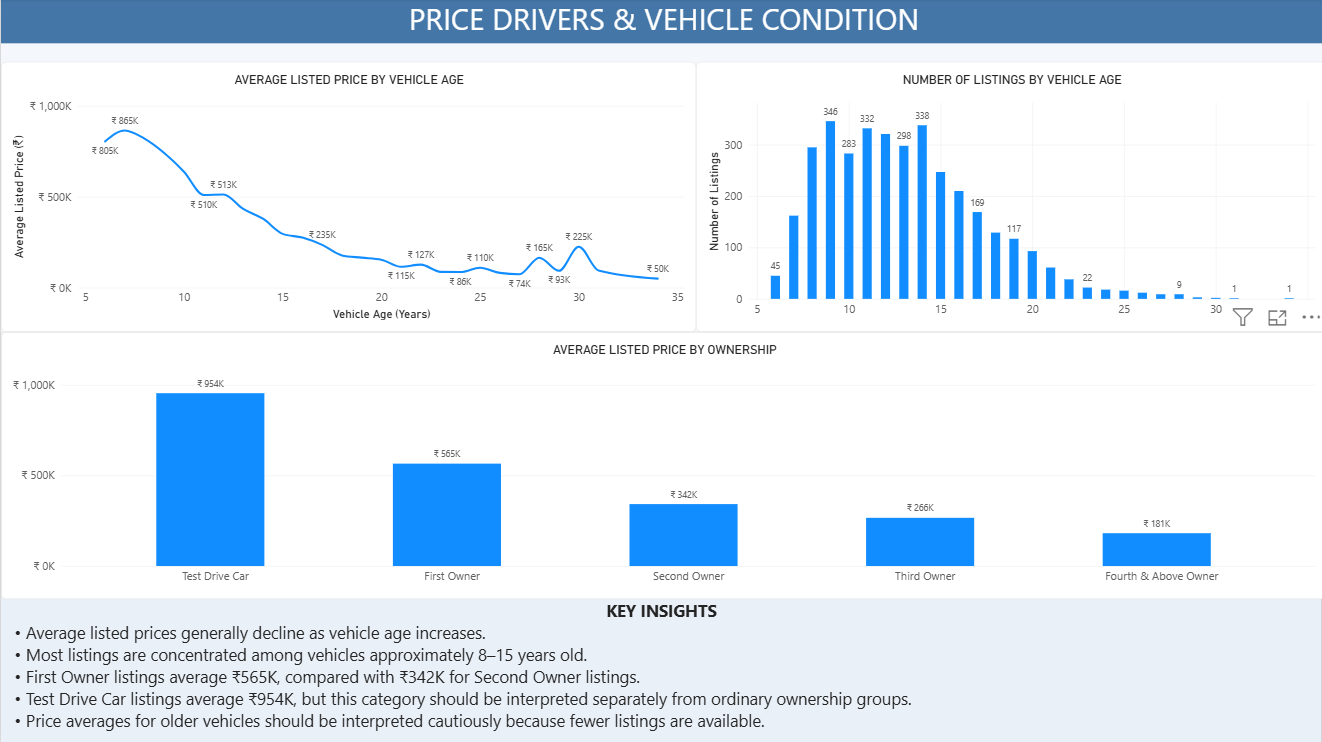

The dashboard page shown, as its layout file describes it:
{"tool":"powerbi","page":{"name":"PRICE DRIVERS & VEHICLE CONDITION","canvas":[1920,1080],"ordinal":1},"visuals":[{"type":"textbox","box":[0,0,1920.4,65.9],"z":0},{"type":"lineChart","title":"AVERAGE LISTED PRICE BY VEHICLE AGE","fields":{"Category":["CarDekho.Vehicle Age"],"Y":["Avg(CarDekho.selling_price)"]},"box":[0,92.6,1006.5,391.1],"z":1000},{"type":"clusteredColumnChart","title":"NUMBER OF LISTINGS BY VEHICLE AGE","fields":{"Category":["CarDekho.Vehicle Age"],"Y":["CountNonNull(CarDekho.name)"]},"box":[1006.5,92.6,913.9,391.1],"z":2000},{"type":"clusteredColumnChart","title":"AVERAGE LISTED PRICE BY OWNERSHIP","fields":{"Category":["CarDekho.owner"],"Y":["Avg(CarDekho.selling_price)"]},"box":[0,483.7,1920.4,387],"z":3000},{"type":"textbox","box":[0,870.7,1920.4,209.9],"z":4000}]}

Visuals, with their boxes in screenshot pixels (x1, y1, x2, y2), scaled from the page's 1920x1080 canvas onto the 1322x742 screenshot:
textbox: box=[0, 0, 1321, 45]
"AVERAGE LISTED PRICE BY VEHICLE AGE" lineChart: box=[0, 64, 693, 332]
"NUMBER OF LISTINGS BY VEHICLE AGE" clusteredColumnChart: box=[693, 64, 1321, 332]
"AVERAGE LISTED PRICE BY OWNERSHIP" clusteredColumnChart: box=[0, 332, 1321, 598]
textbox: box=[0, 598, 1321, 741]
